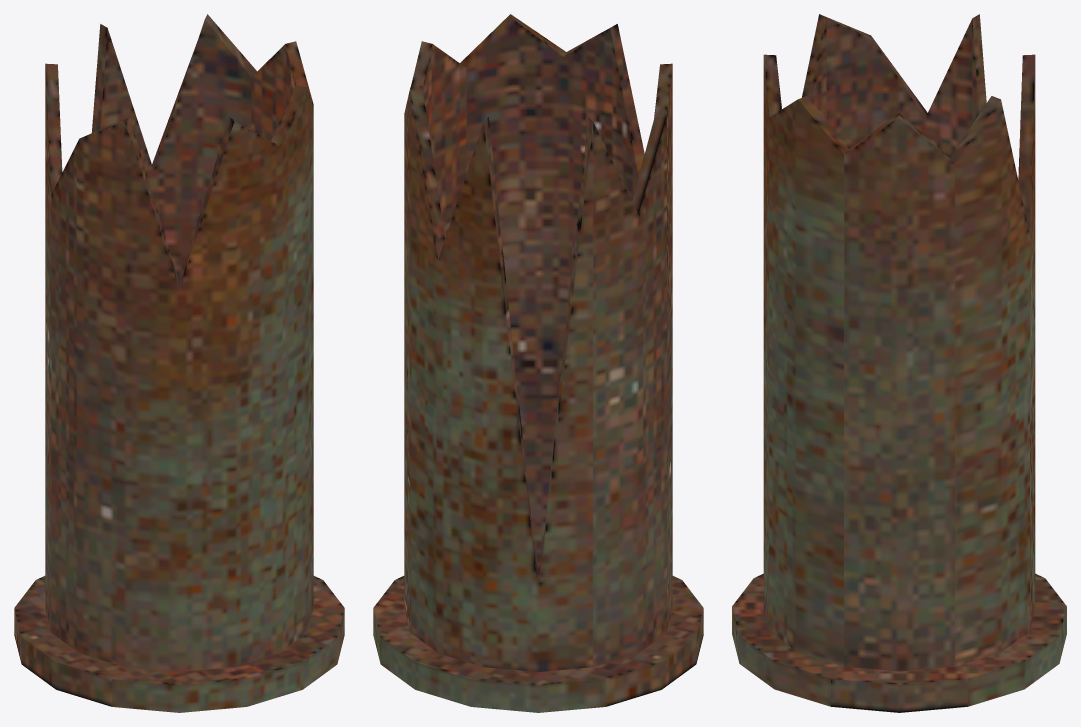
Rendered from Pipe_Set_4_3.glb.
The picture shows the model from 3 angles, left to right: view 1: azimuth 30°, elevation 25°; view 2: azimuth 150°, elevation 25°; view 3: azimuth 270°, elevation 25°; orthographic projection.
Parts seen in each view (by area): view 1: Pipe_Set_4_3; view 2: Pipe_Set_4_3; view 3: Pipe_Set_4_3.
Boxes of the visible parts, x1,y1,x2,y2 form: Pipe_Set_4_3: [14, 14, 344, 712]; Pipe_Set_4_3: [373, 14, 703, 712]; Pipe_Set_4_3: [732, 14, 1066, 712].
Bounding box in the file's own units: 0.2686 × 0.5173 × 0.2701.
1 material, 1 textured.
